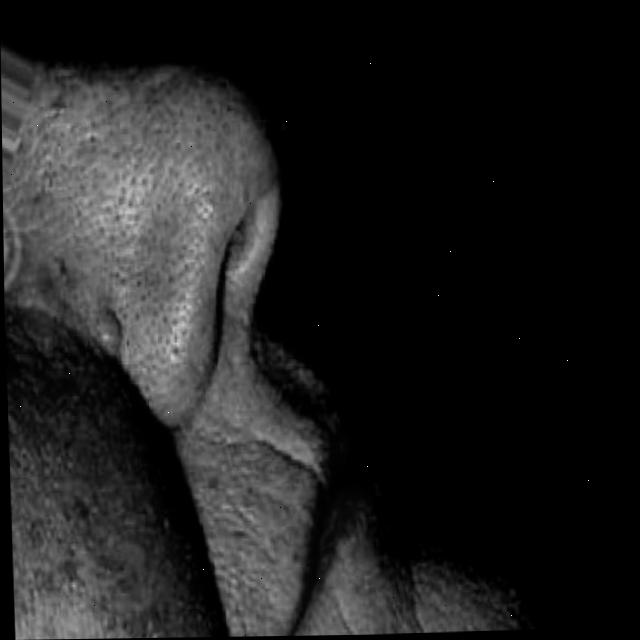Rosacea: (7, 421, 162, 640)
